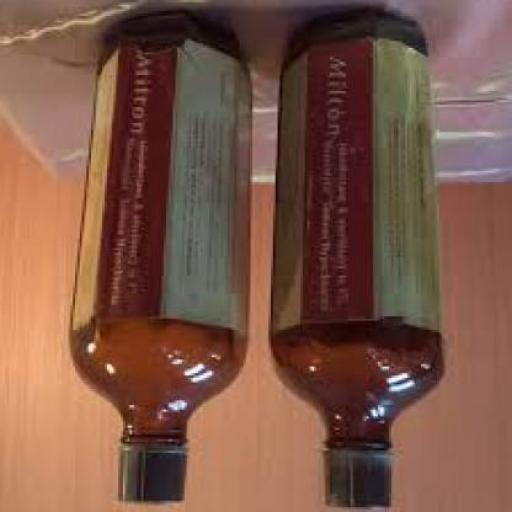glass: (71, 13, 253, 446), (276, 12, 448, 454)
plastic: (322, 450, 399, 511), (120, 444, 189, 508)
